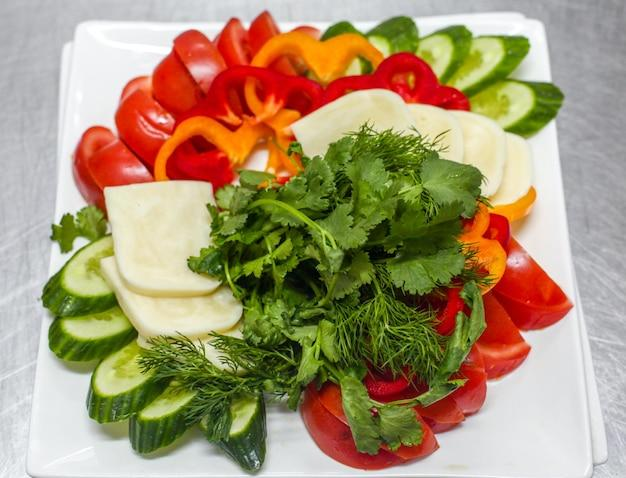bell pepper: (58, 40, 473, 169)
coriander: (251, 167, 519, 286)
cucumber: (34, 231, 289, 478)
